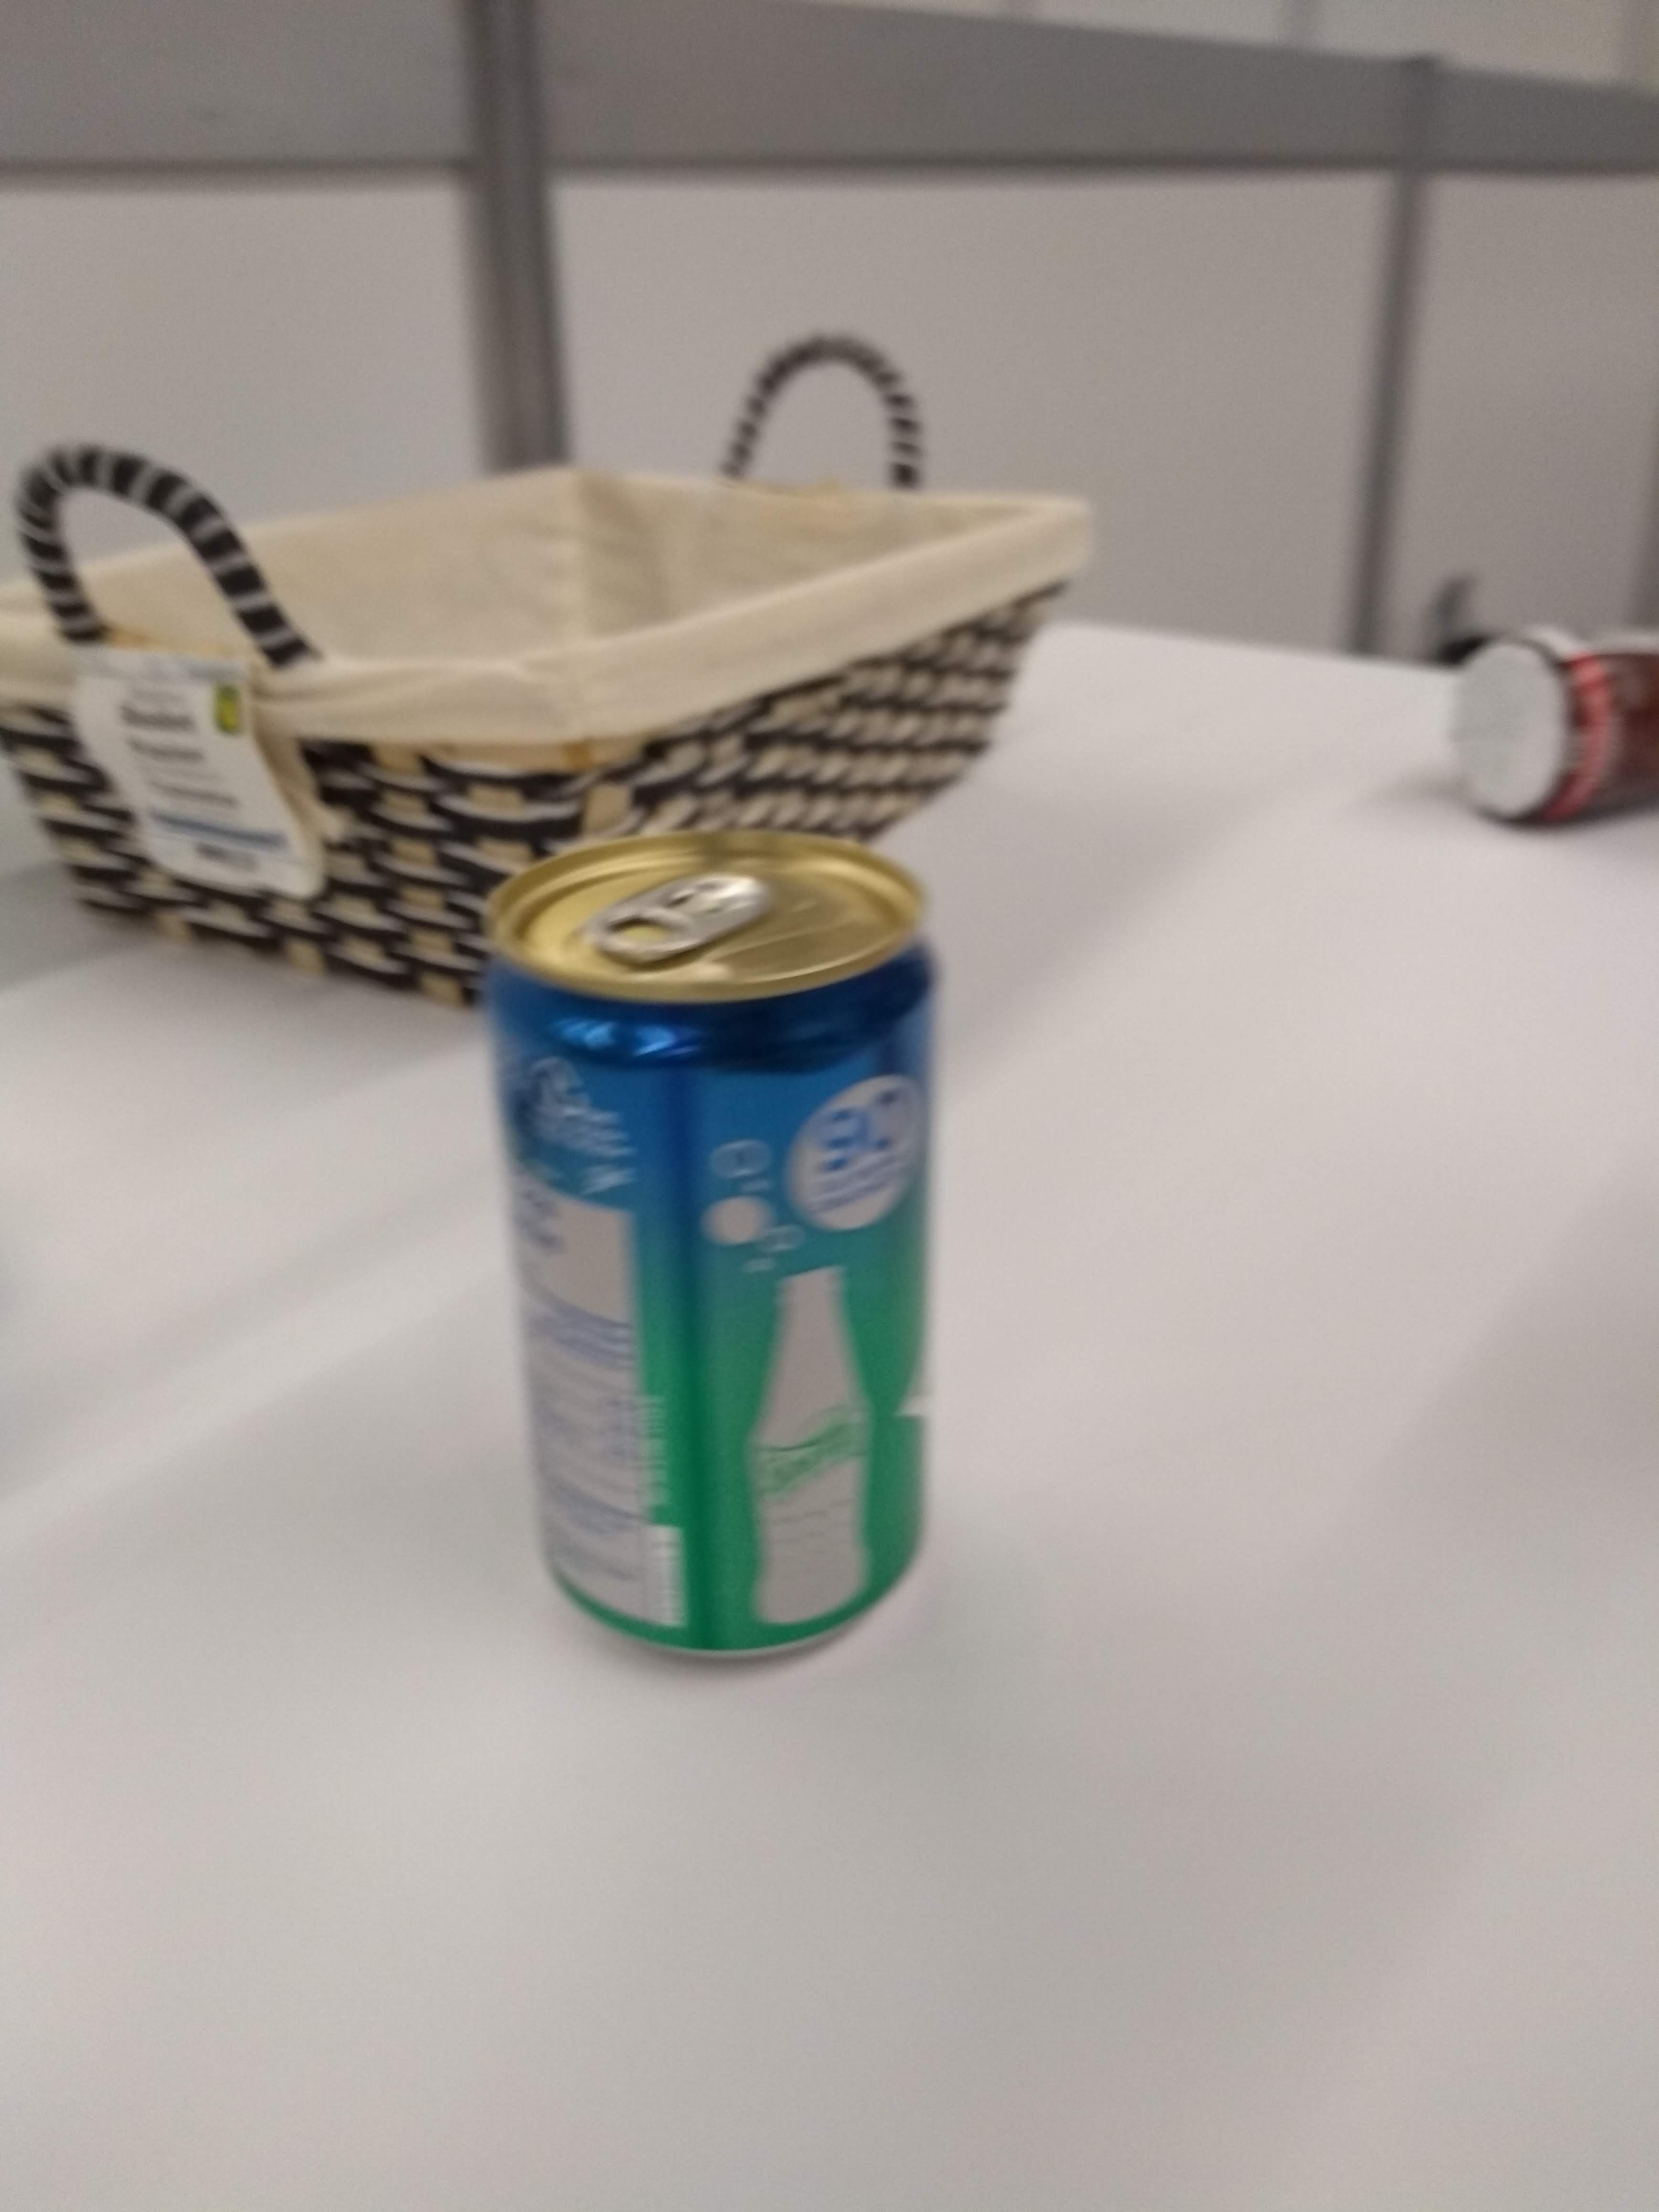sprite: (458, 813, 957, 1684)
